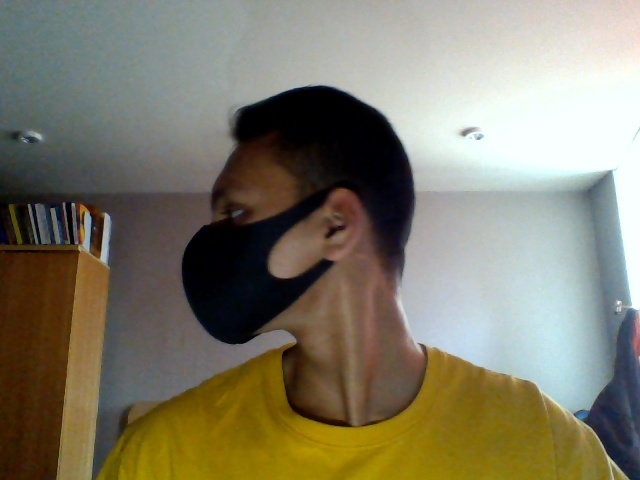mask: (180, 222, 309, 343)
